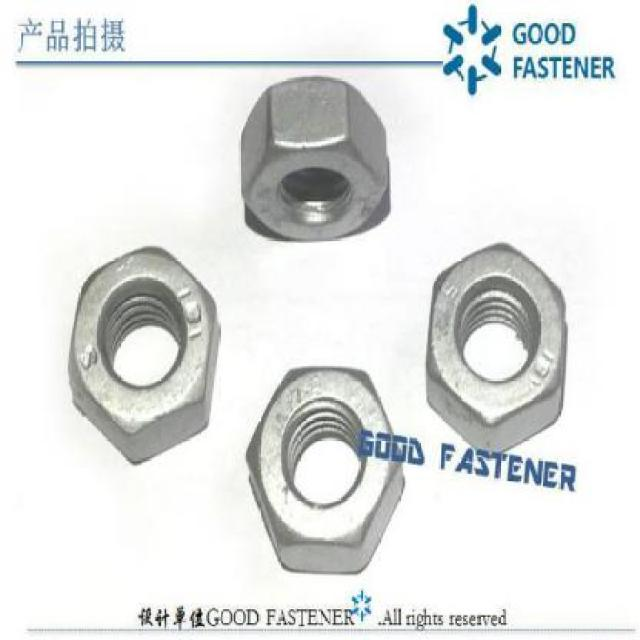Nut: (240, 361, 407, 577), (65, 242, 220, 466), (422, 238, 570, 457), (236, 74, 391, 245)
